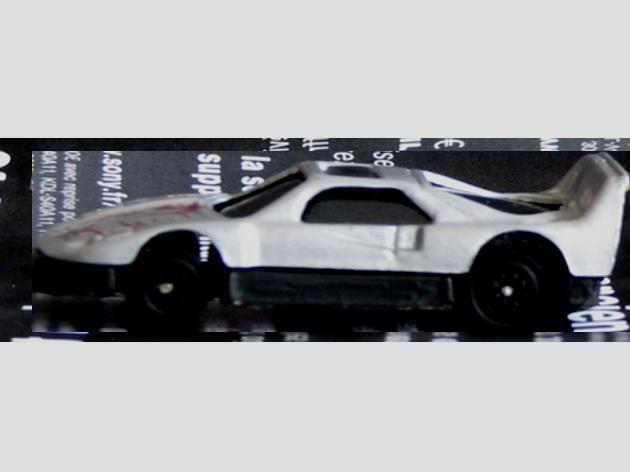toy-car: (32, 151, 630, 332)
